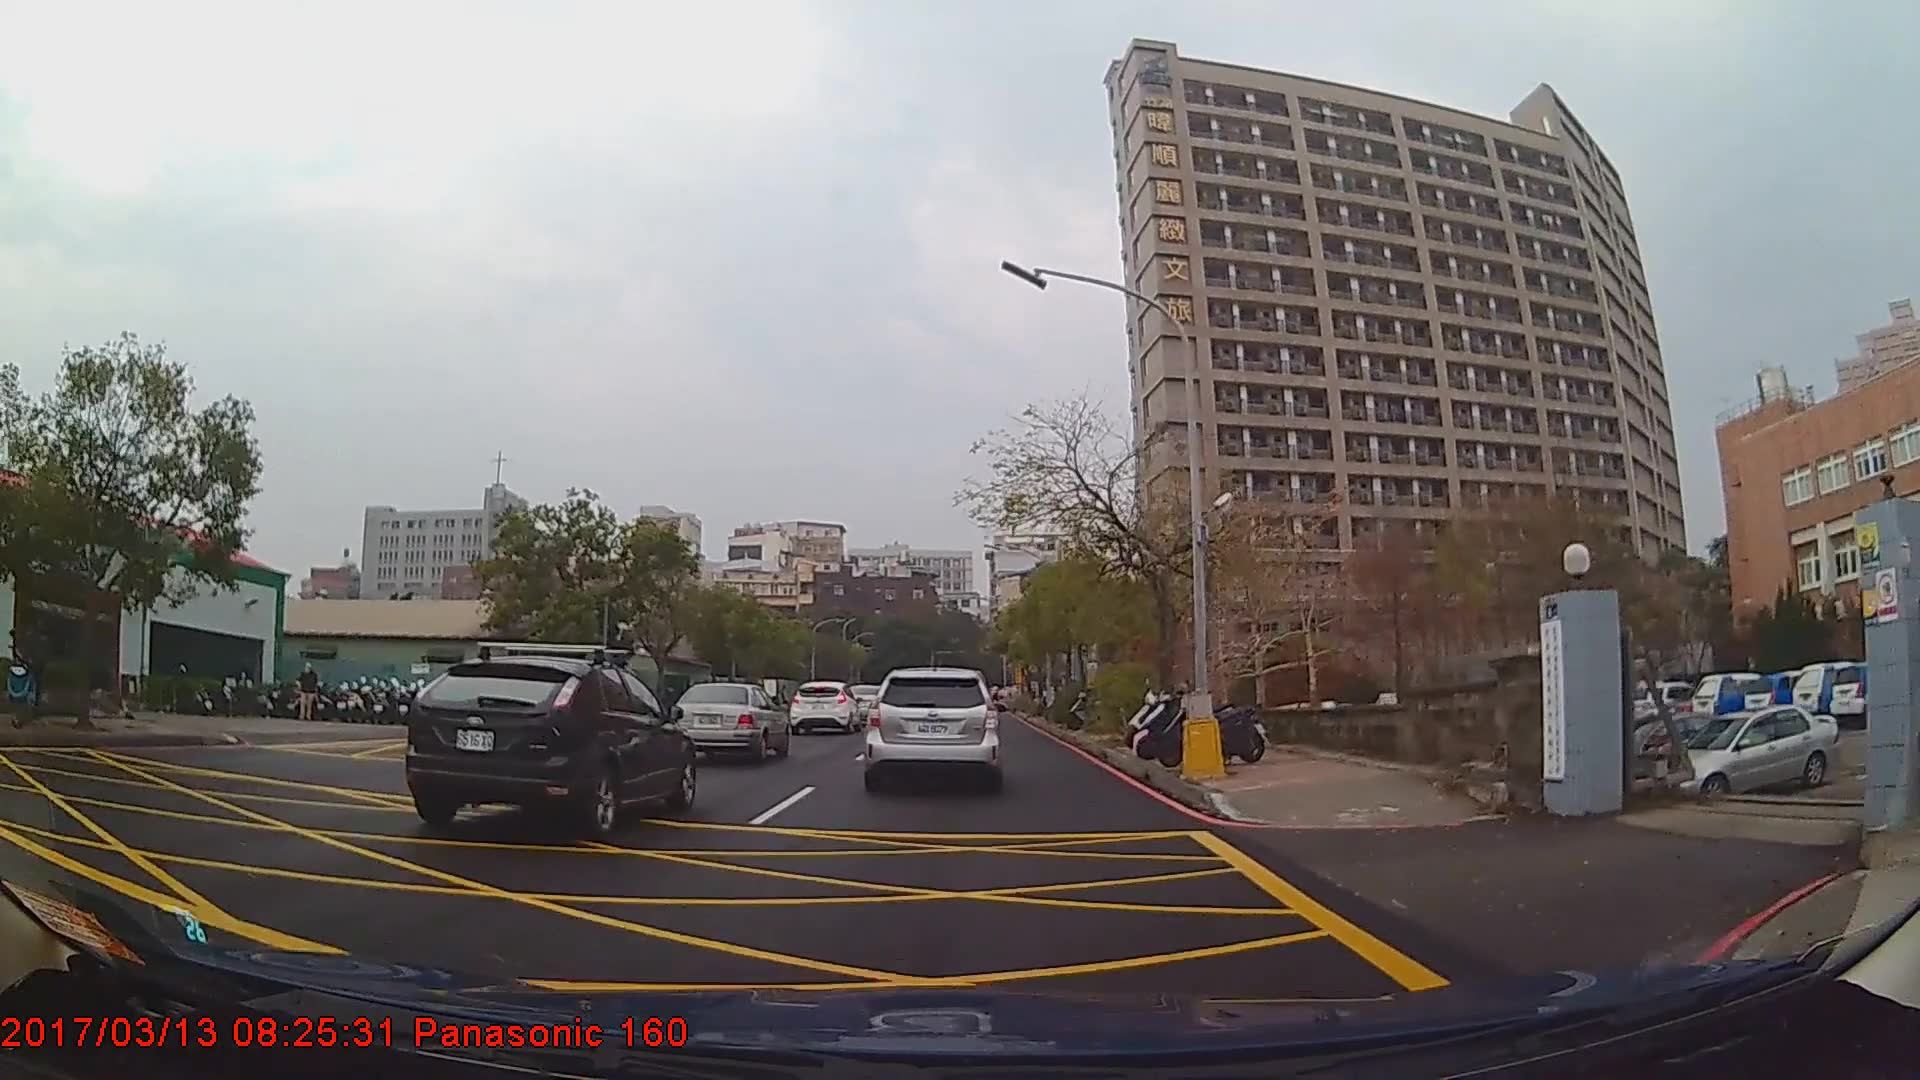pedestrian: (298, 664, 319, 721)
vehicle: (401, 654, 694, 837), (1646, 701, 1842, 793), (865, 666, 998, 791), (667, 681, 790, 765), (789, 681, 862, 738)
